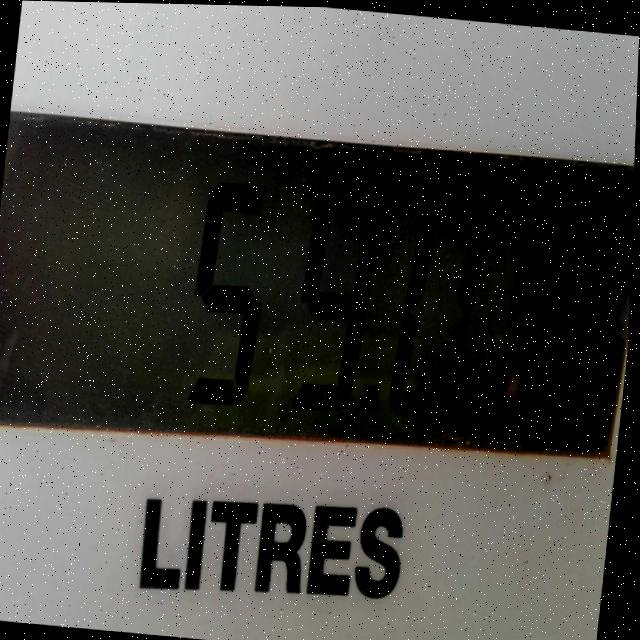.: (352, 372, 386, 434)
0: (385, 198, 490, 422), (495, 204, 585, 437)
5: (192, 183, 279, 408)
9: (295, 190, 384, 413)
